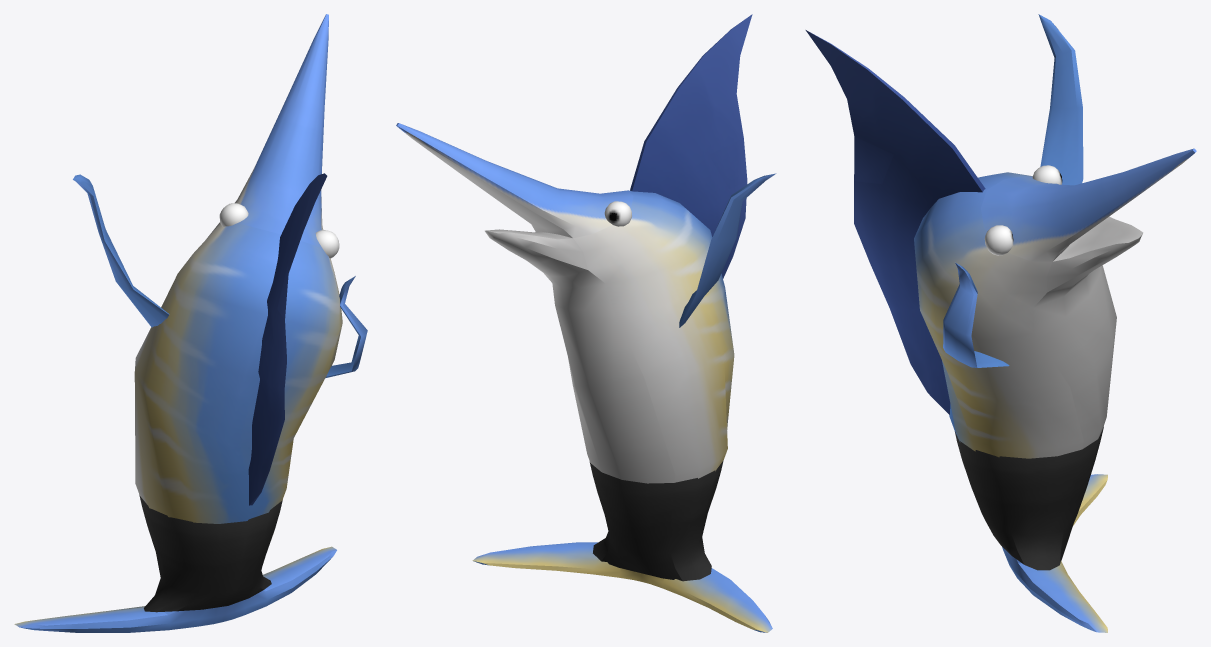
The model's file is kajiki_attack_05.fbx.
3 renders of one model, left to right at view 1: azimuth 30°, elevation 25°; view 2: azimuth 150°, elevation 25°; view 3: azimuth 270°, elevation 25°, orthographic. The views are drawn at different scales.
Parts seen in each view (by area): view 1: A_05; view 2: A_05; view 3: A_05.
Part boxes in pixels (box(x1,y1,x2,y2)): A_05: box(14, 14, 367, 632); A_05: box(396, 14, 776, 632); A_05: box(805, 14, 1196, 632).
Size of the model in its own units: 1.64 by 2.28 by 1.53.
1 material, 1 textured.
